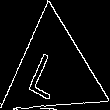L_NE: (30, 41, 75, 100)
